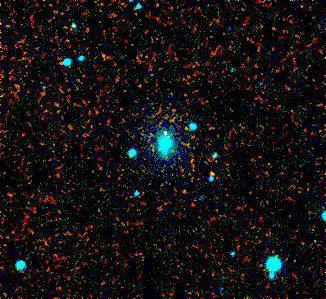star: (196, 159, 226, 189)
